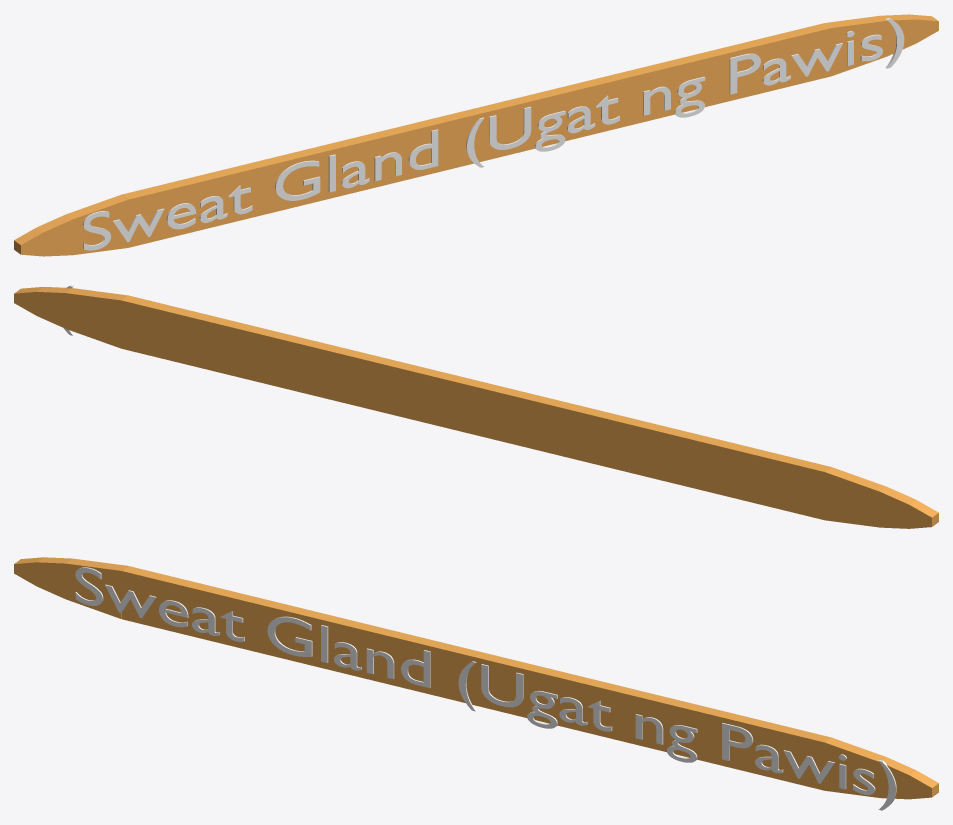
The model's file is txtSweatGland.fbx.
3 views of the same model, one above another, from view 1: azimuth 30°, elevation 25°; view 2: azimuth 150°, elevation 25°; view 3: azimuth 330°, elevation 25° (orthographic).
Visible parts, largest first — view 1: TagContainer.066, Text.067; view 2: TagContainer.066; view 3: TagContainer.066, Text.067.
Boxes of the visible parts, x1,y1,x2,y2 form: TagContainer.066: (14, 14, 938, 256); Text.067: (83, 18, 904, 250); TagContainer.066: (14, 286, 938, 528); TagContainer.066: (14, 557, 938, 799); Text.067: (75, 567, 896, 810).
Bounding box in the file's own units: 822 × 45.66 × 11.92.
